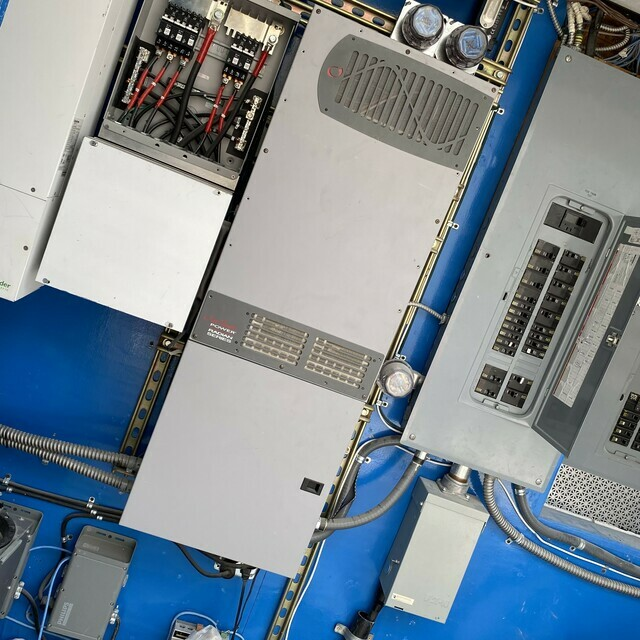inverter: (104, 1, 493, 586)
